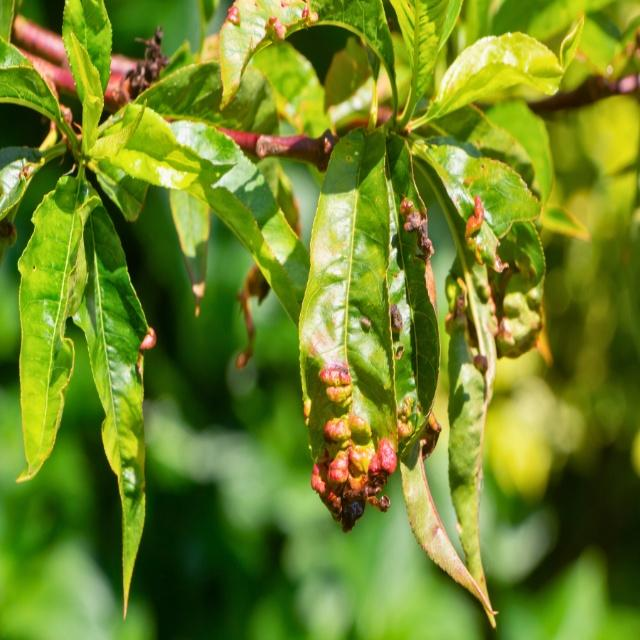leaf_curl: (292, 167, 426, 528)
